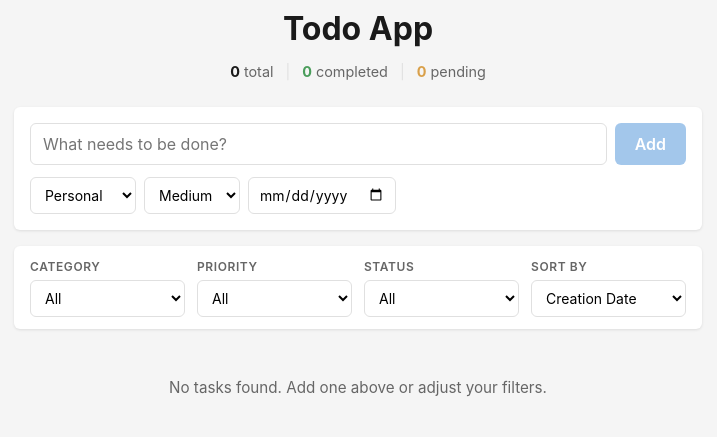
it: App › can add and display a task
Type "New task" into the field with placeholder "What needs to be done?" at (318, 144), box left=30, top=123, right=607, bottom=165
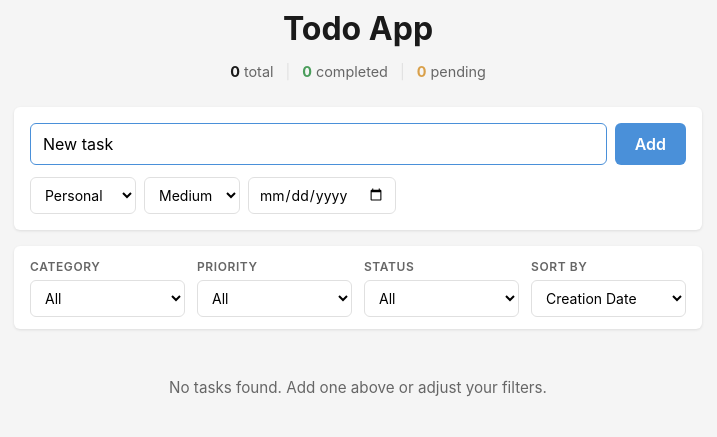
Click the button "Add" at (650, 144), box left=615, top=123, right=686, bottom=165
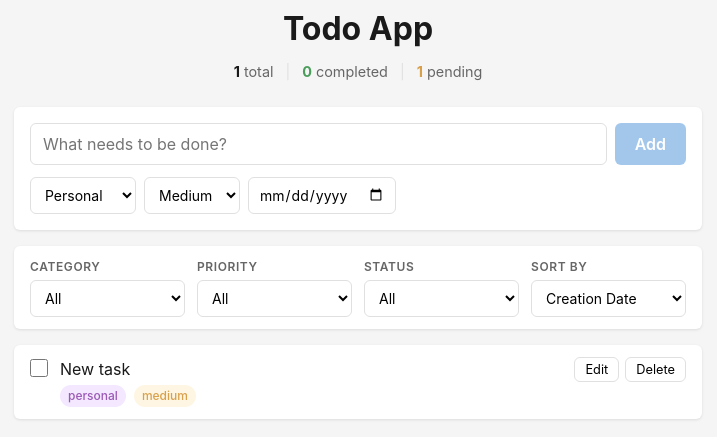
Result: the text "New task" is shown at left=60, top=359, right=130, bottom=379
Result: the text "1" next to "total" is shown at left=234, top=63, right=240, bottom=80
